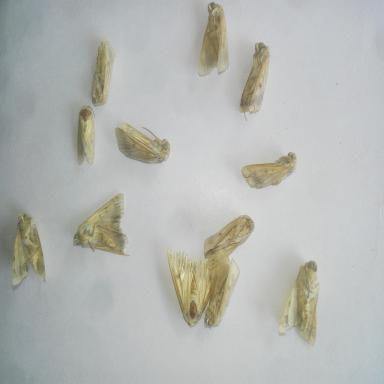abw: (163, 241, 221, 331), (68, 188, 132, 263), (276, 257, 324, 349), (200, 244, 246, 334), (196, 210, 258, 271), (6, 208, 48, 293), (192, 0, 233, 84), (236, 36, 273, 128), (111, 117, 174, 167), (238, 146, 302, 195), (88, 35, 122, 110), (71, 102, 106, 171)
